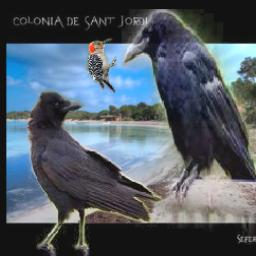Crow: (122, 9, 256, 245), (25, 90, 163, 256)
Woodpecker: (85, 37, 117, 95)
